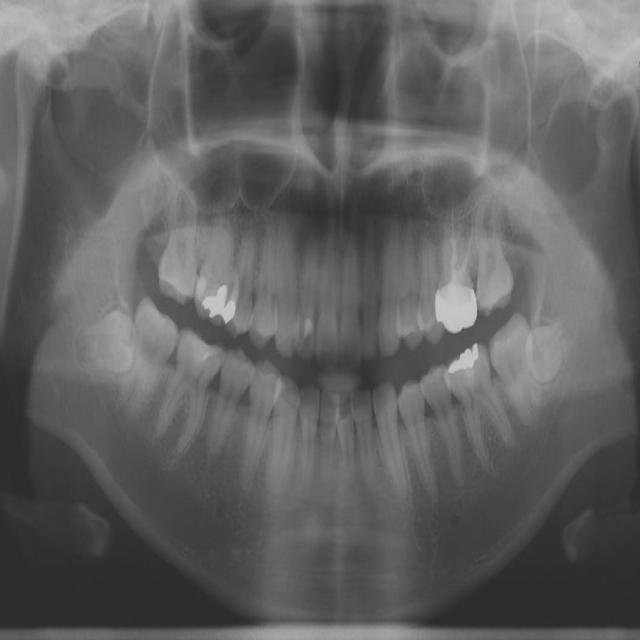Crown: (434, 285, 478, 334)
Filling: (177, 330, 222, 363), (203, 289, 233, 327), (444, 344, 480, 375)
Root Canal Treatment: (465, 209, 475, 271), (452, 194, 456, 266)
impacted tooth: (527, 312, 577, 386), (75, 311, 134, 370)
